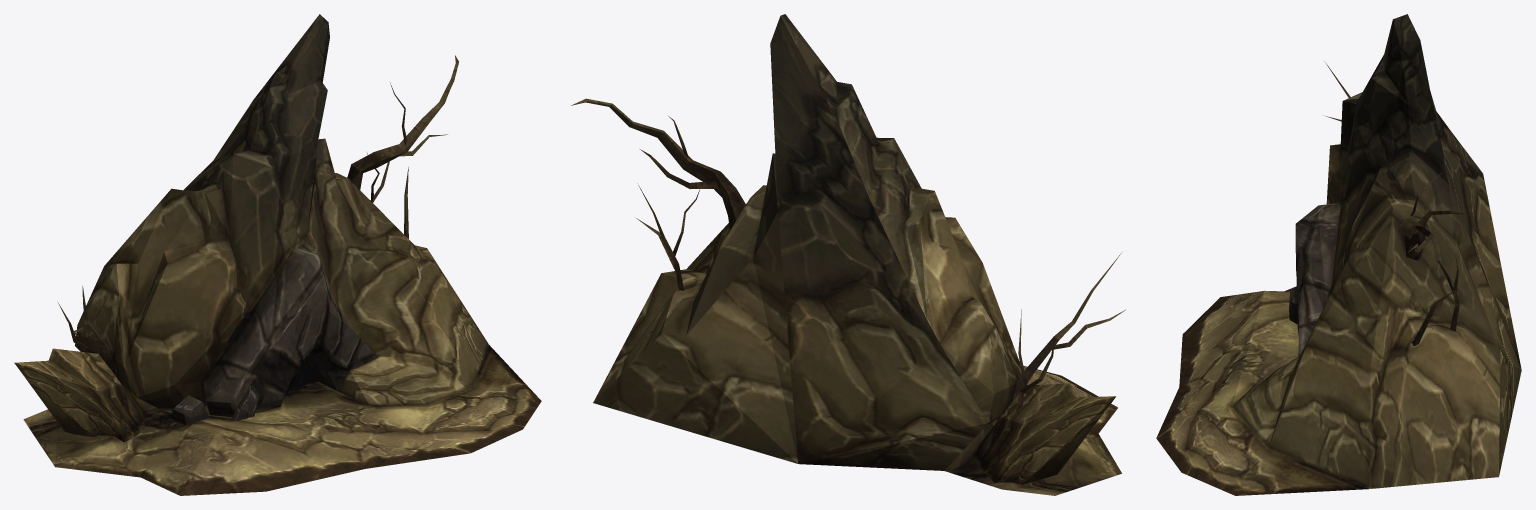
The model's file is D_chuguaiwu001.fbx.
The picture shows the model from 3 angles, left to right: view 1: azimuth 30°, elevation 25°; view 2: azimuth 150°, elevation 25°; view 3: azimuth 270°, elevation 25°; orthographic projection. The views are drawn at different scales.
Visible parts, largest first — view 1: D_chuguaiwu001; view 2: D_chuguaiwu001; view 3: D_chuguaiwu001.
Boxes of the visible parts, x1,y1,x2,y2 form: D_chuguaiwu001: (14, 14, 541, 495); D_chuguaiwu001: (571, 14, 1125, 495); D_chuguaiwu001: (1156, 14, 1521, 495).
Bounding box in the file's own units: 552 × 410 × 336.
